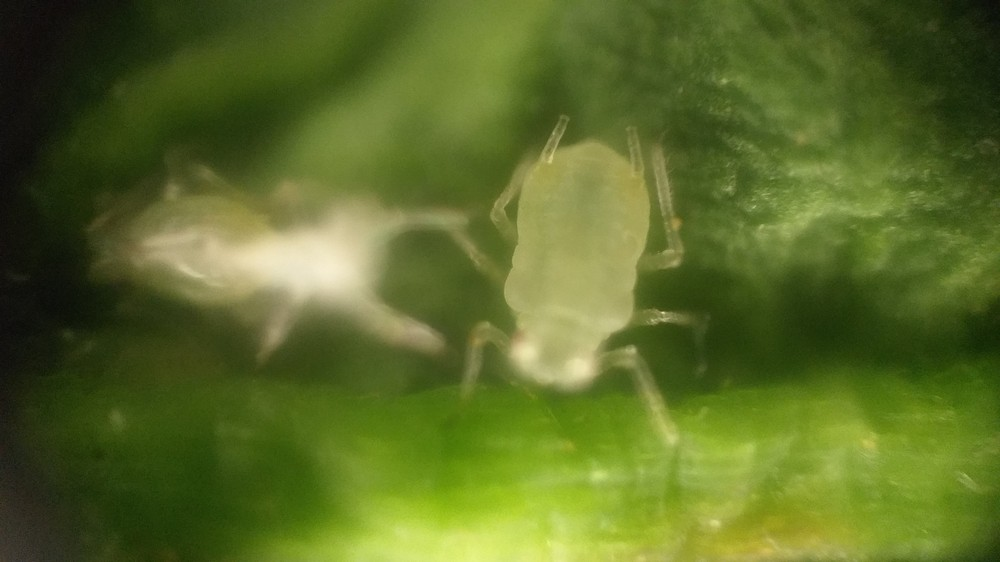Pulgon: (442, 119, 747, 457)
